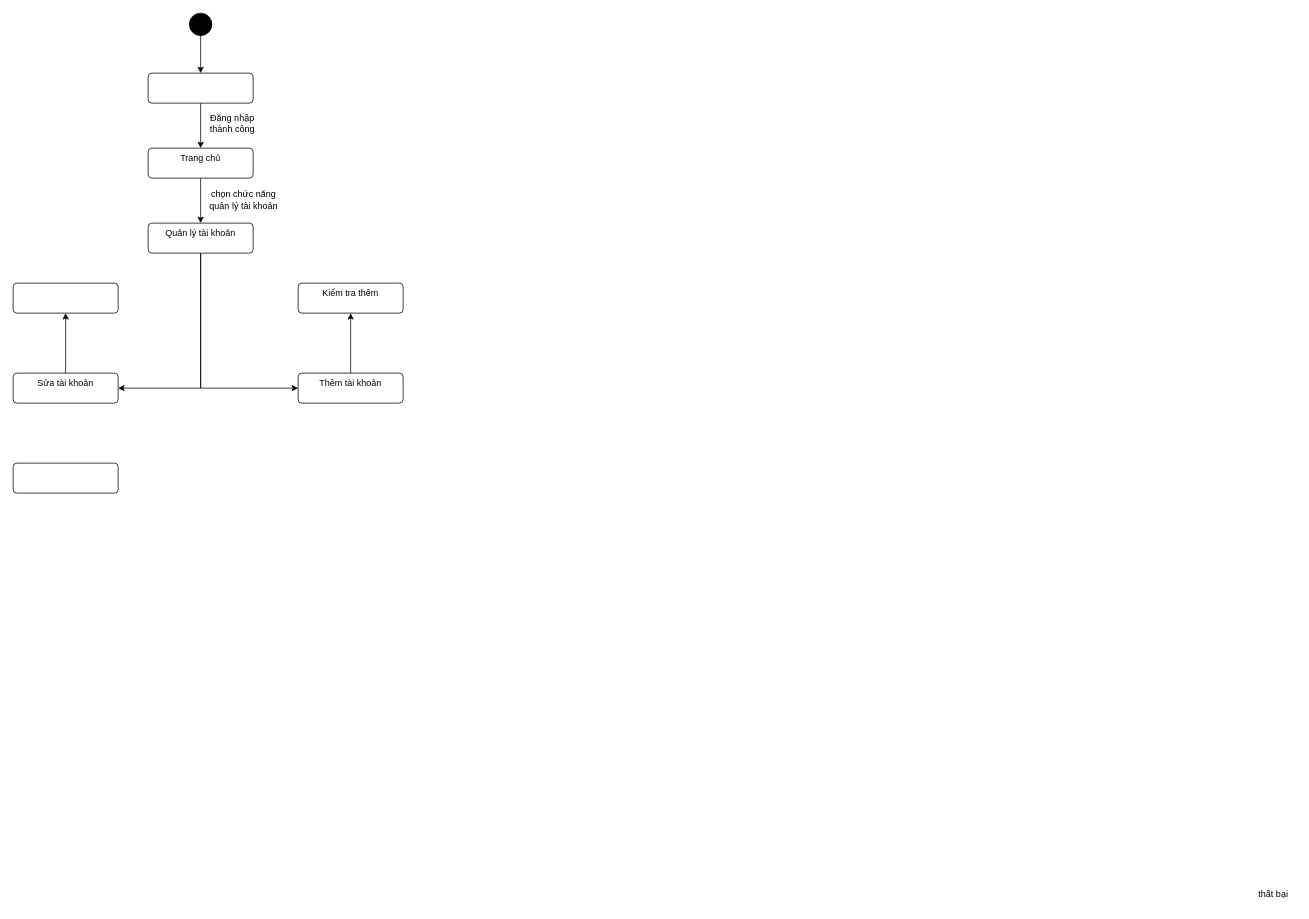
Image size: 1309x919. Some labels were removed from this diagram. Each missing label, with the box of its shape:
Kiểm tra sửa: (12, 282, 118, 313)
Xoá tài khoản: (12, 462, 118, 493)
Đăng nhập: (147, 72, 253, 103)
